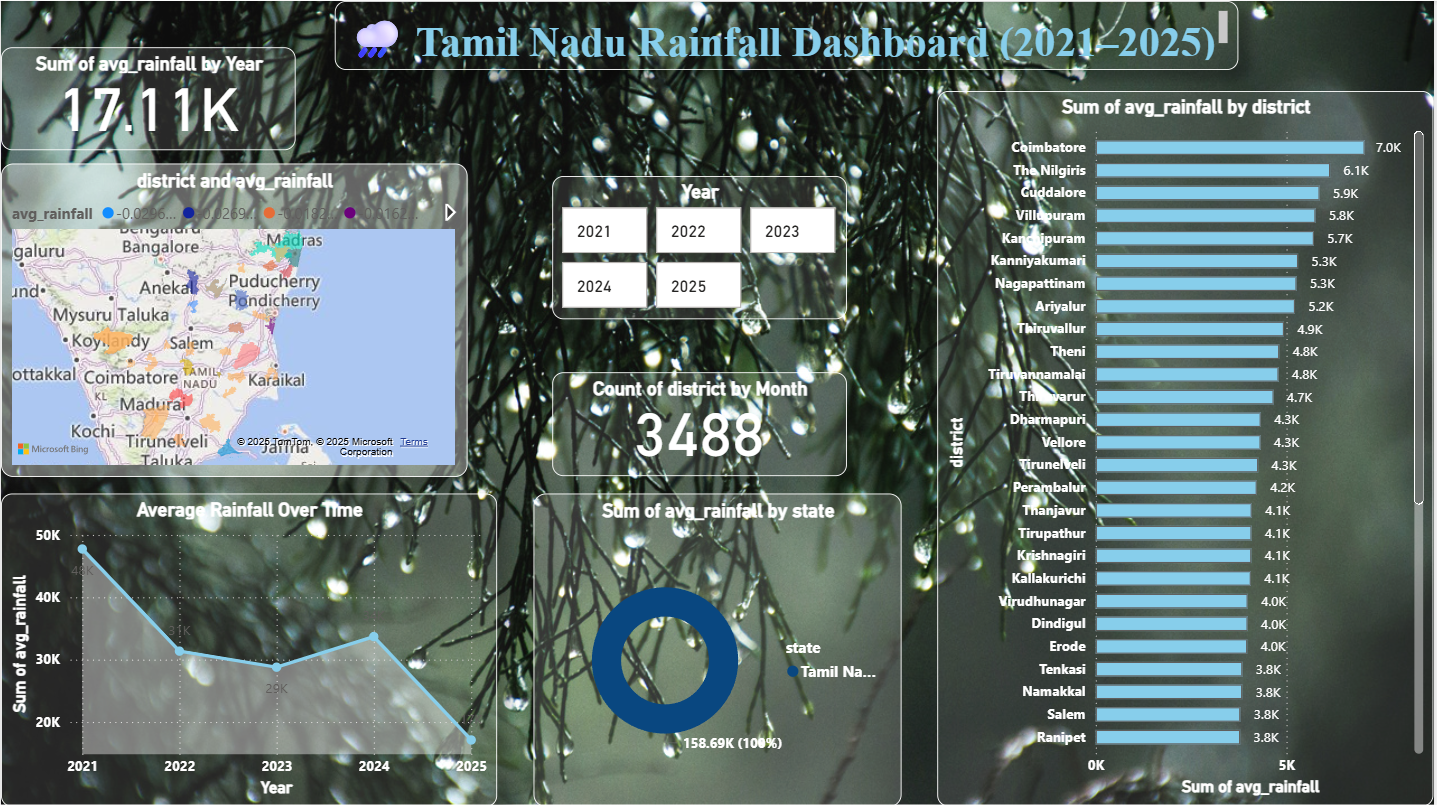

Layout of this report page (visuals, bound fields, positions):
{"tool":"powerbi","page":{"name":"Page 1","canvas":[1280,720],"ordinal":0},"visuals":[{"type":"lineChart","title":"Average Rainfall Over Time","fields":{"Category":["rain_db rainfall_data.date.Variation.Date Hierarchy.Year"],"Y":["Sum(rain_db rainfall_data.avg_rainfall)"]},"box":[0,440.5,443.2,279.9],"z":0},{"type":"textbox","box":[297.8,0,806.9,61.7],"z":1000},{"type":"clusteredBarChart","fields":{"Category":["rain_db rainfall_data.district"],"Y":["Sum(rain_db rainfall_data.avg_rainfall)"]},"box":[0,146.8,443.2,279.9],"z":2000},{"type":"kpi","fields":{"Indicator":["Sum(rain_db rainfall_data.avg_rainfall)"],"TrendLine":["rain_db rainfall_data.Year"]},"box":[0,41.2,263.5,91.9],"z":3000},{"type":"advancedSlicerVisual","fields":{"Values":["rain_db rainfall_data.Year"]},"box":[443.2,146.8,837.1,279.9],"z":4000}]}

Visuals, with their boxes in screenshot pixels (x1, y1, x2, y2), scaled from the page's 1280x720 canvas onto the 1437x805 screenshot:
"Average Rainfall Over Time" lineChart: [0, 493, 498, 804]
textbox: [334, 0, 1240, 69]
clusteredBarChart - rain_db rainfall_data.district x Sum(rain_db rainfall_data.avg_rainfall): [0, 164, 498, 477]
kpi - Sum(rain_db rainfall_data.avg_rainfall) x rain_db rainfall_data.Year: [0, 46, 296, 149]
advancedSlicerVisual - rain_db rainfall_data.Year: [498, 164, 1436, 477]
